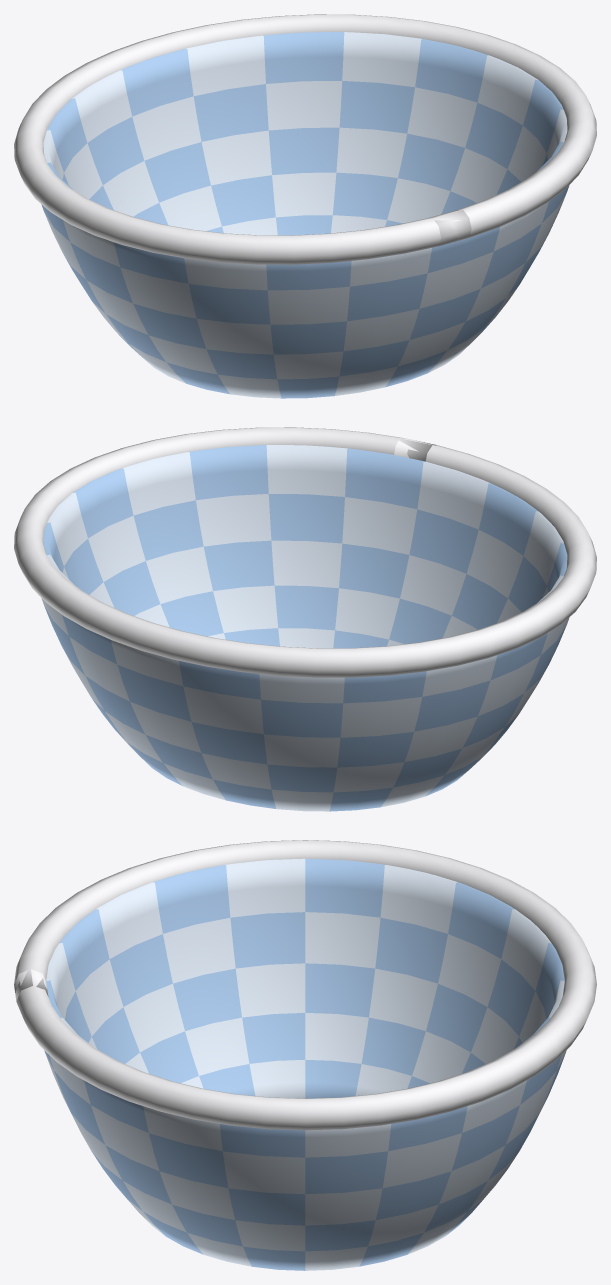
File: PajamaShorts.fbx
3 renders of one model, top to bottom at view 1: azimuth 30°, elevation 25°; view 2: azimuth 150°, elevation 25°; view 3: azimuth 270°, elevation 25°, orthographic. The views are drawn at different scales.
Visible parts, largest first — view 1: PajamaShorts; view 2: PajamaShorts; view 3: PajamaShorts.
Boxes of the visible parts, left/top/right/bottom form: PajamaShorts: left=14, top=14, right=596, bottom=398; PajamaShorts: left=14, top=427, right=596, bottom=811; PajamaShorts: left=14, top=840, right=596, bottom=1270.
Size of the model in its own units: 0.6898 by 0.2616 by 0.6229.
